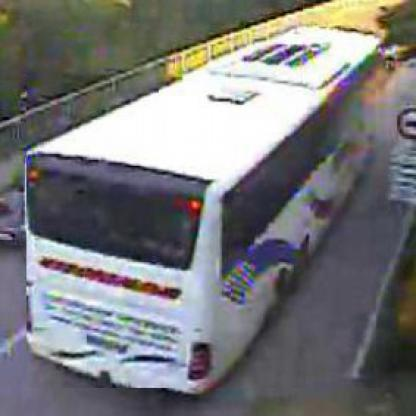bus: (27, 31, 379, 390)
